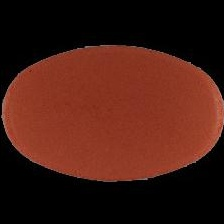63187-374: (0, 0, 224, 224)
